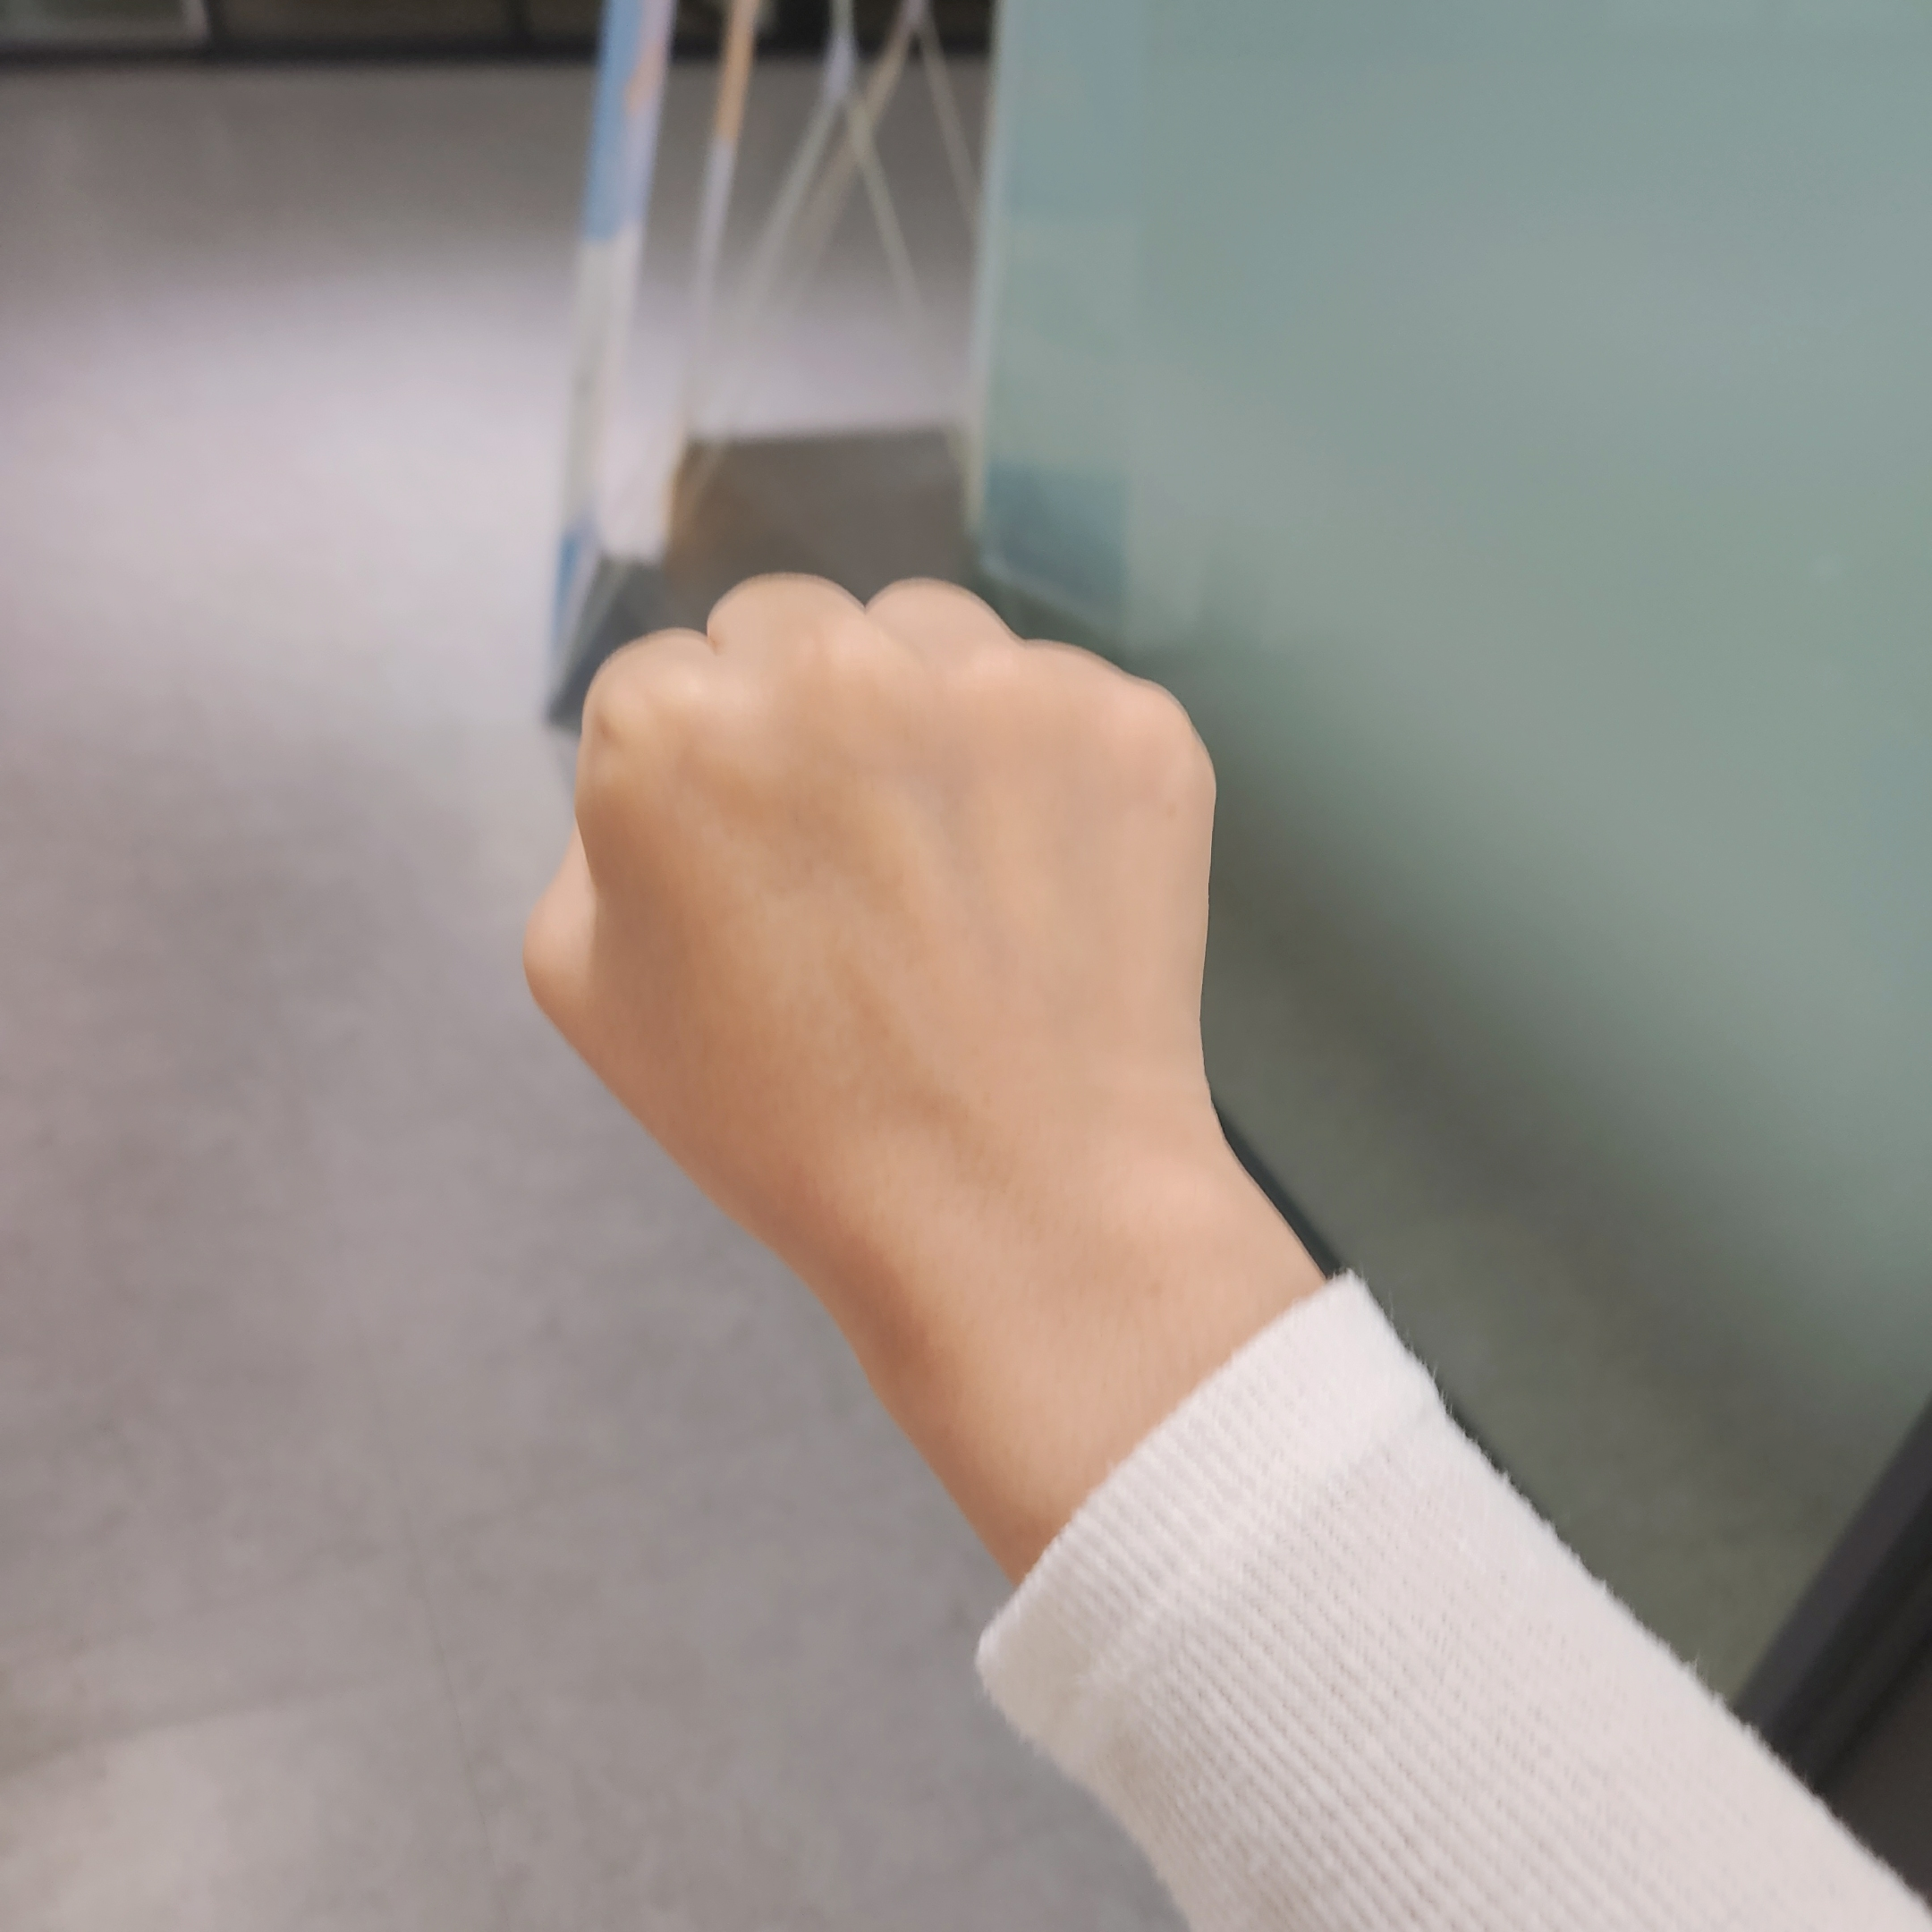smile: (522, 573, 1230, 1247)
